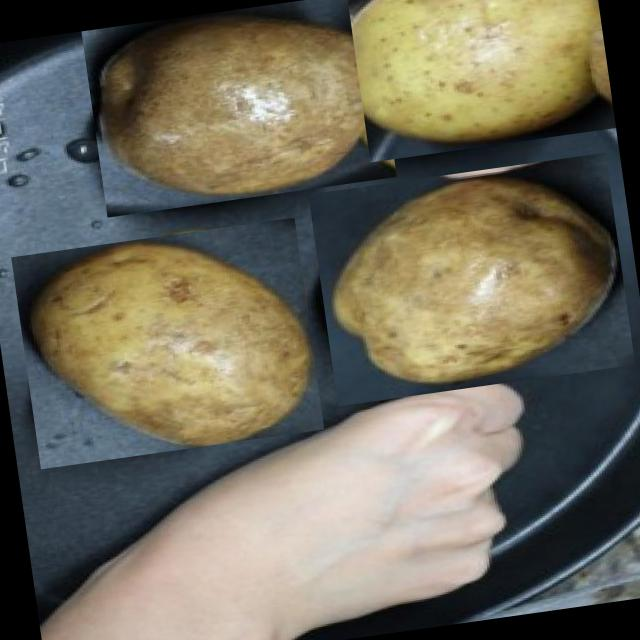Potato: (308, 152, 635, 406), (11, 216, 324, 468), (81, 0, 396, 216), (347, 0, 616, 161)
